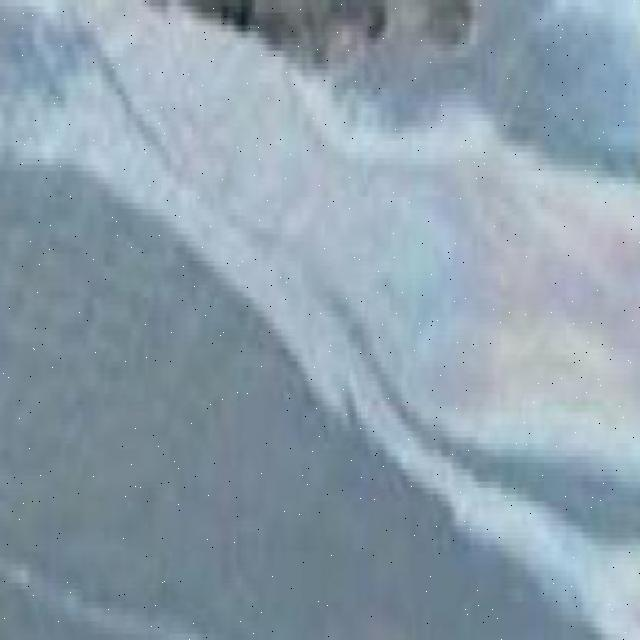sheen: (38, 3, 640, 640)
